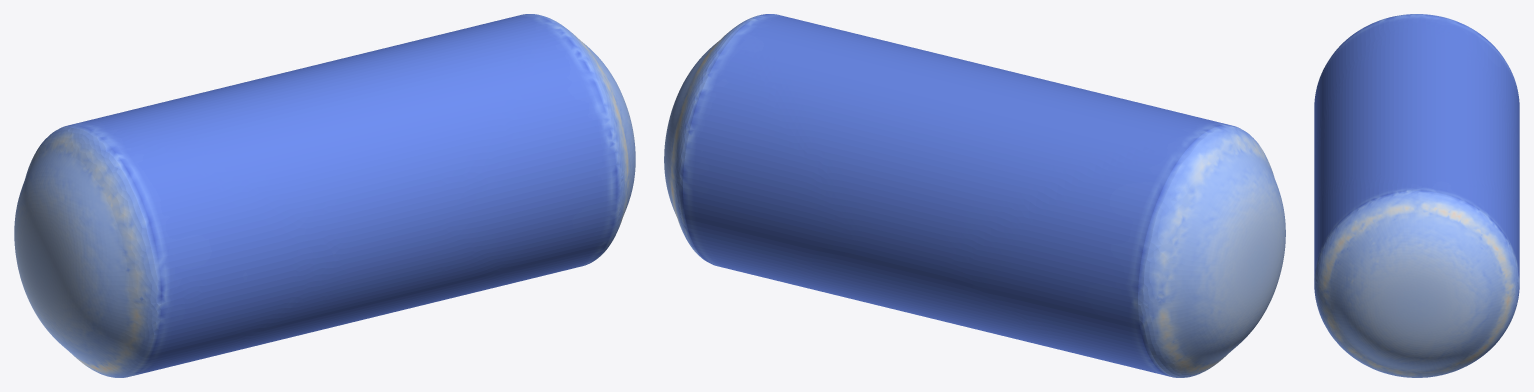
3 views of the same model, side by side, from view 1: azimuth 30°, elevation 25°; view 2: azimuth 150°, elevation 25°; view 3: azimuth 270°, elevation 25° (orthographic). The views are drawn at different scales.
Parts seen in each view (by area): view 1: Renderer Node; view 2: Renderer Node; view 3: Renderer Node.
Boxes of the visible parts, bbox=[...] form: Renderer Node: bbox=[14, 14, 635, 377]; Renderer Node: bbox=[664, 14, 1285, 377]; Renderer Node: bbox=[1314, 14, 1519, 377].
Size of the model in its own units: 1267 by 500 by 500.
Materials: 1 (1 with a texture image).
